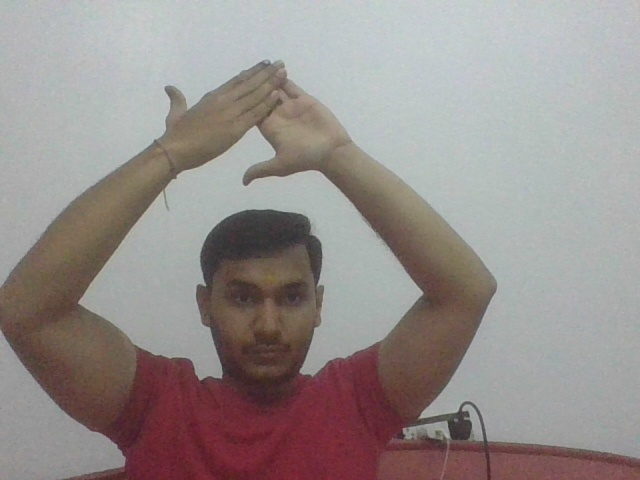H: (161, 57, 355, 189)
